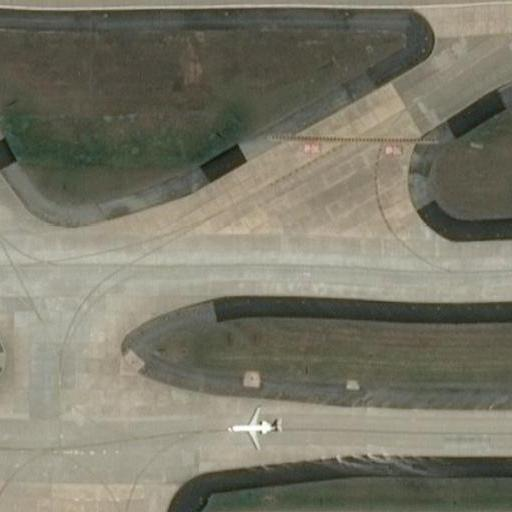Aircraft: (226, 400, 284, 454)
